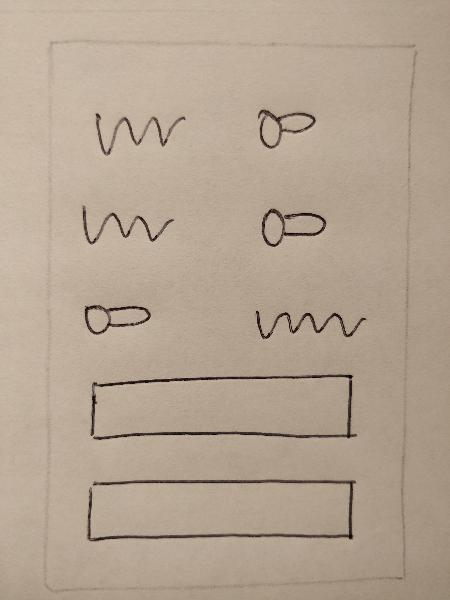switch: (78, 291, 159, 349), (250, 99, 321, 158), (254, 203, 333, 252)
text: (247, 298, 371, 348), (76, 199, 181, 249), (86, 110, 187, 155)
text_input: (79, 370, 370, 452), (79, 472, 363, 555)
